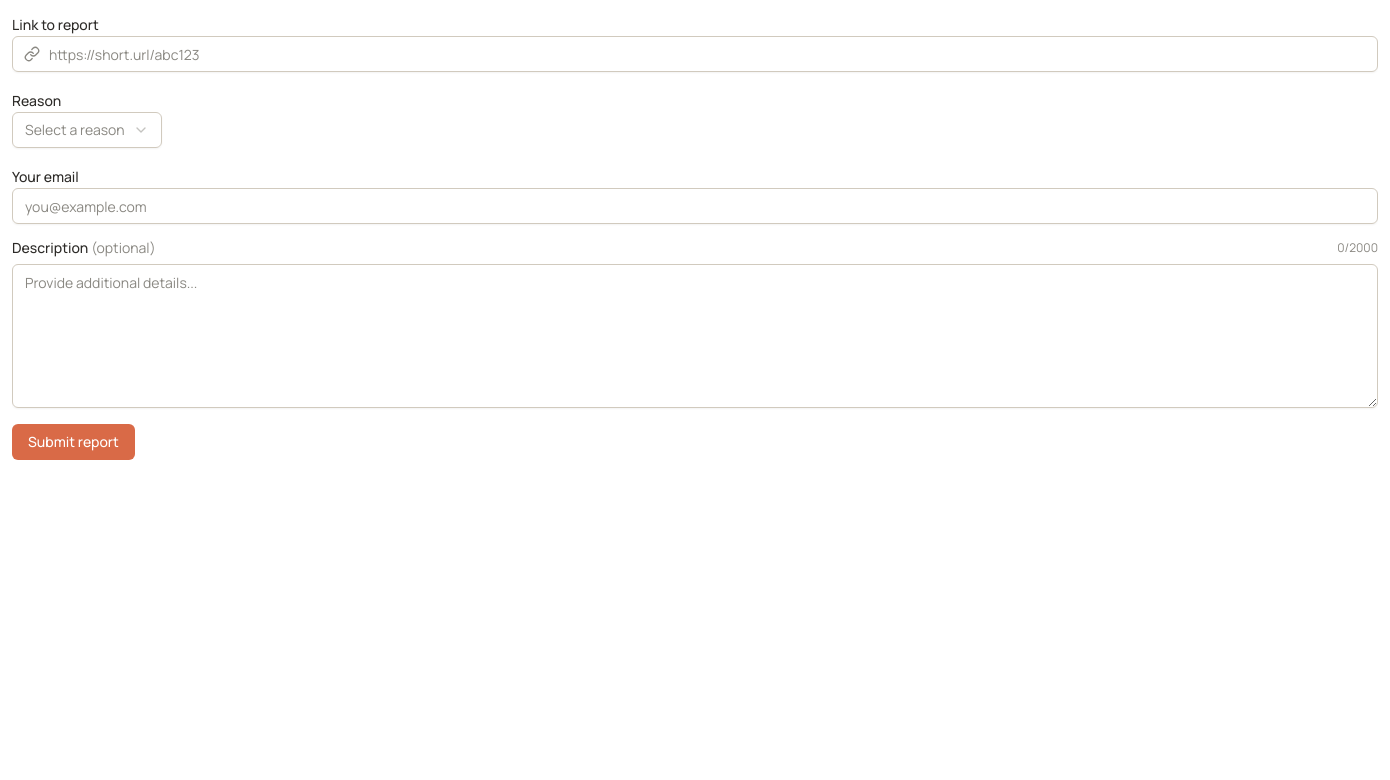
ReportAbuseForm validation › reports every missing required field and sends nothing
What coordinates should you click on to do the following:
click the button "Submit report"
I would click on:
 (73, 442)
Its box is [12,424,135,460].
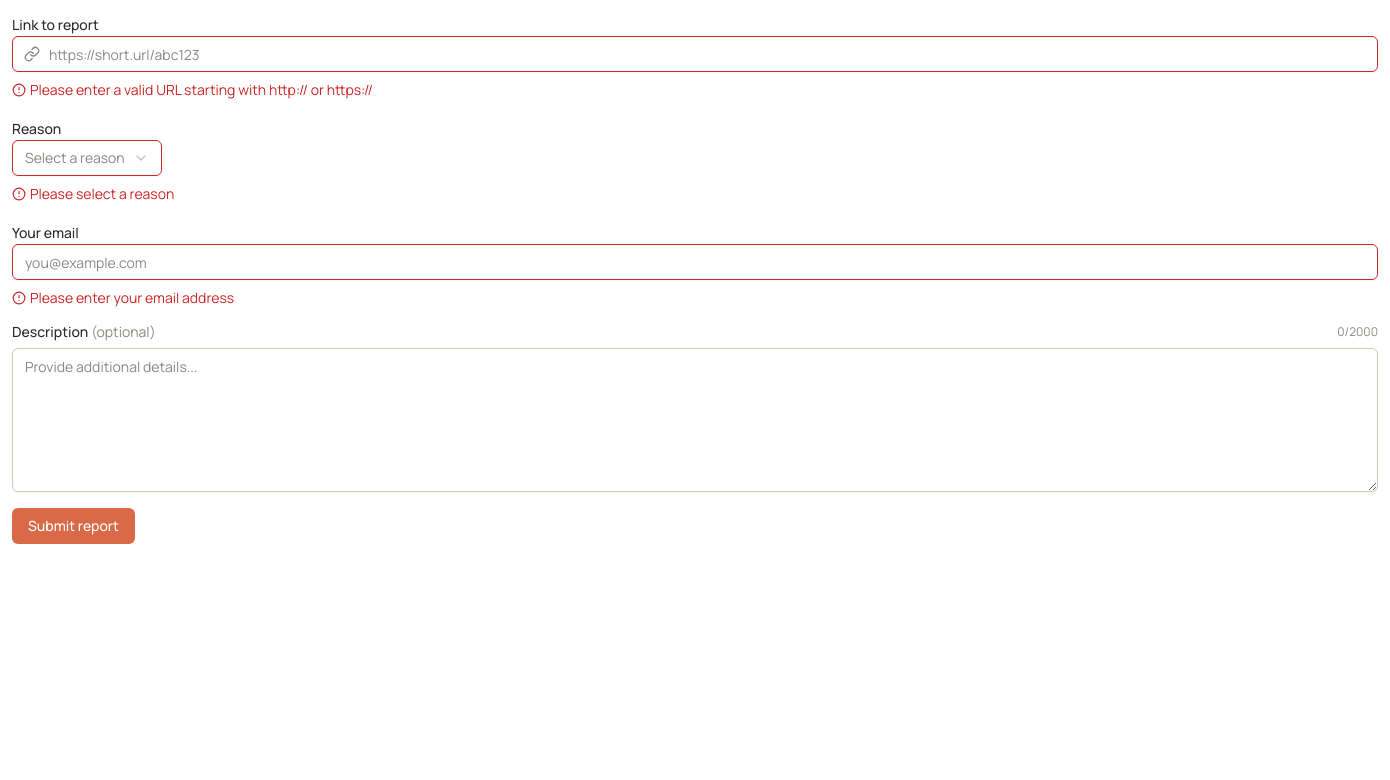
Expected: the text "Please enter a valid URL starting with http:// or https://" is shown, [12,80,373,99]
Expected: the text "Please select a reason" is shown, [12,184,174,203]
Expected: the text "Please enter your email address" is shown, [12,288,234,307]
